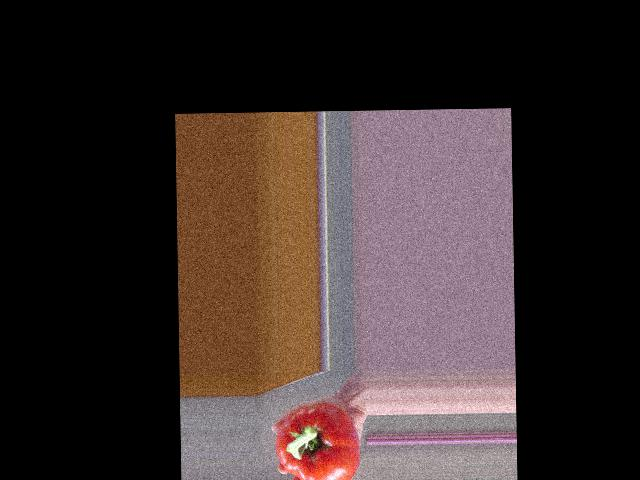tomato: (274, 403, 360, 480)
